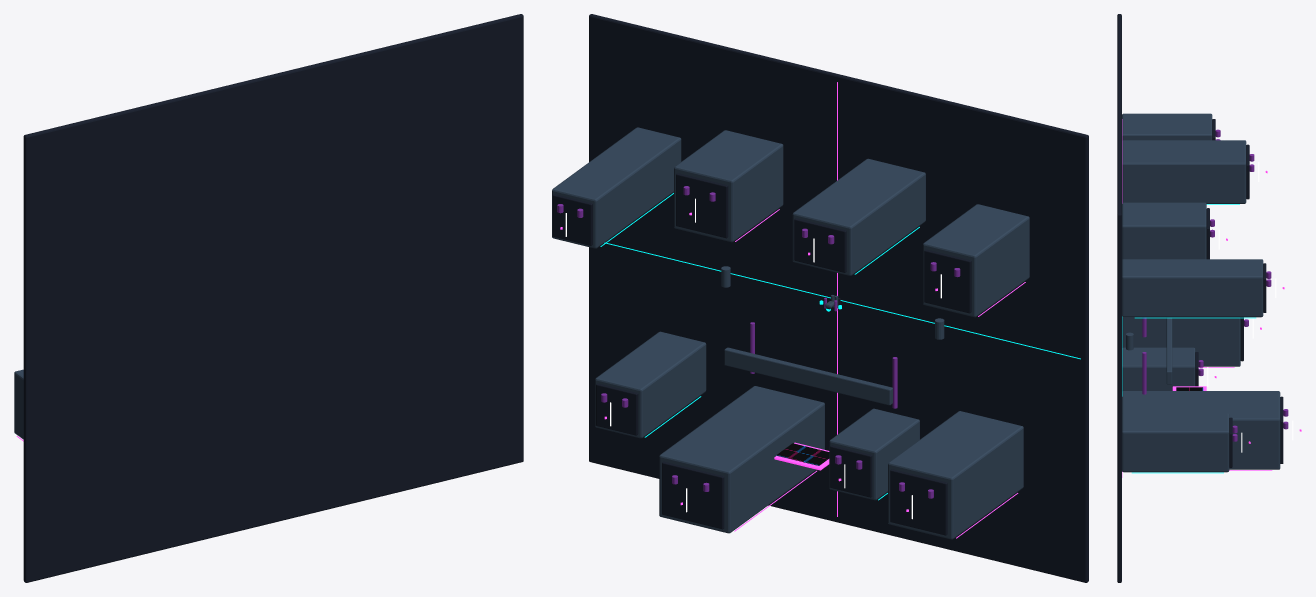
The model's file is cyberpunk_city.glb.
3 renders of one model, left to right at view 1: azimuth 30°, elevation 25°; view 2: azimuth 150°, elevation 25°; view 3: azimuth 270°, elevation 25°, orthographic. The views are drawn at different scales.
Visible parts, largest first — view 1: diorama_ground, tower_00; view 2: diorama_ground, tower_02, tower_00, tower_05, tower_07, tower_04, tower_06, tower_03, tower_01, tower_02_roof, skybridge, tower_00_roof (+8 smaller); view 3: tower_07, tower_05, tower_03, tower_02, tower_06, tower_00, diorama_ground, tower_01, tower_04, skybridge, tower_02_roof.
Boxes of the visible parts, box(x1,y1,x2,y2) form: diorama_ground: box(23, 14, 523, 582); tower_00: box(14, 369, 23, 439); diorama_ground: box(589, 14, 1088, 582); tower_02: box(659, 386, 824, 533); tower_00: box(888, 411, 1023, 539); tower_05: box(792, 158, 925, 275); tower_07: box(552, 127, 681, 248); tower_04: box(923, 204, 1029, 317); tower_06: box(674, 130, 783, 242); tower_03: box(595, 331, 706, 438); tower_01: box(829, 408, 919, 500); tower_02_roof: box(662, 461, 724, 529); skybridge: box(724, 347, 892, 405); tower_00_roof: box(890, 469, 947, 535); tower_07: box(1122, 259, 1263, 317); tower_05: box(1122, 140, 1246, 203); tower_03: box(1122, 413, 1229, 472); tower_02: box(1122, 391, 1280, 469); tower_06: box(1122, 202, 1206, 259); tower_00: box(1122, 317, 1240, 366); diorama_ground: box(1117, 14, 1121, 582); tower_01: box(1122, 347, 1195, 391); tower_04: box(1122, 113, 1212, 140); skybridge: box(1166, 317, 1172, 384); tower_02_roof: box(1280, 396, 1283, 463).
Bounding box in the file's own units: 42 × 36 × 16.29.
8 materials, 1 textured.
